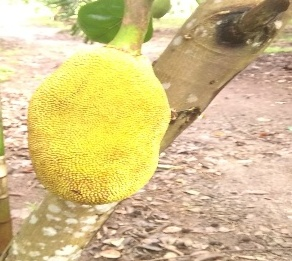Mit: (29, 48, 173, 206)
